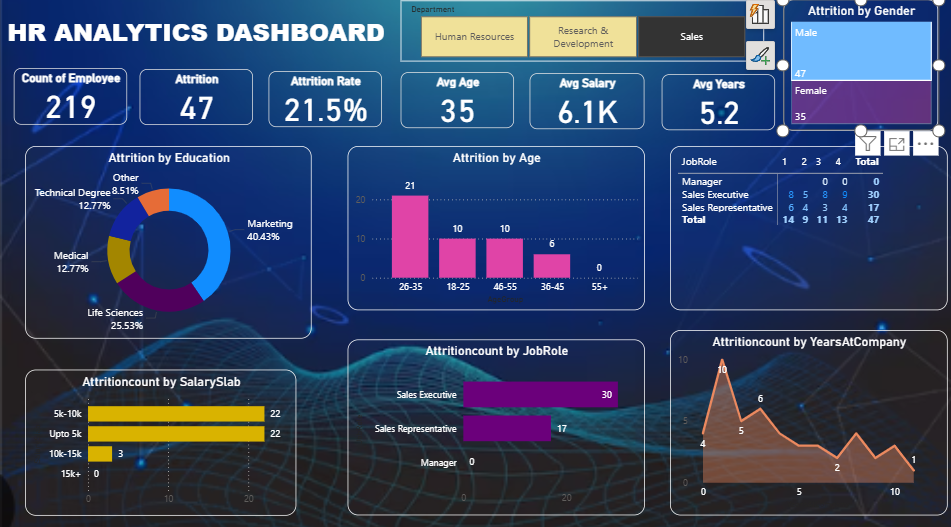

What the dashboard file says about the page in this screenshot:
{"tool":"powerbi","page":{"name":"Page 1","canvas":[1280,720],"ordinal":0},"visuals":[{"type":"card","title":"Count of Employee","fields":{"Values":["CountNonNull(HR_Analytics - HR_Analytics.EmpID)"]},"box":[26.7,103.3,150,75],"z":0},{"type":"card","title":"Attrition ","fields":{"Values":["Sum(HR_Analytics - HR_Analytics.Attritioncount)"]},"box":[193.1,105.2,150,74.1],"z":1000},{"type":"card","title":"Attrition Rate","fields":{"Values":["HR_Analytics - HR_Analytics.AttritionRate"]},"box":[363.8,106.9,150,74.1],"z":2000},{"type":"card","title":"Avg Age","fields":{"Values":["Avg(HR_Analytics - HR_Analytics.Age)"]},"box":[537.9,108.6,150,74.1],"z":3000},{"type":"card","title":"Avg Salary","fields":{"Values":["Avg(HR_Analytics - HR_Analytics.MonthlyIncome)"]},"box":[708.6,110.3,151.7,74.1],"z":4000},{"type":"card","title":"Avg Years","fields":{"Values":["Avg(HR_Analytics - HR_Analytics.YearsAtCompany)"]},"box":[882.8,112.1,150,74.1],"z":5000},{"type":"donutChart","title":"Attrition by Education ","fields":{"Category":["HR_Analytics - HR_Analytics.EducationField"],"Y":["Sum(HR_Analytics - HR_Analytics.Attritioncount)"]},"box":[41.4,206.9,379.3,255.2],"z":6000},{"type":"columnChart","title":"Attrition by Age","fields":{"Category":["HR_Analytics - HR_Analytics.AgeGroup"],"Y":["Sum(HR_Analytics - HR_Analytics.Attritioncount)"]},"box":[467.2,206.9,393.1,217.2],"z":7000},{"type":"pivotTable","fields":{"Rows":["HR_Analytics - HR_Analytics.JobRole"],"Columns":["HR_Analytics - HR_Analytics.JobSatisfaction"],"Values":["Sum(HR_Analytics - HR_Analytics.Attritioncount)"]},"box":[894.8,206.9,367.2,217.2],"z":8000},{"type":"barChart","title":"Attritioncount by SalarySlab","fields":{"Category":["HR_Analytics - HR_Analytics.SalarySlab"],"Y":["Sum(HR_Analytics - HR_Analytics.Attritioncount)"]},"box":[41.4,501.7,358.6,193.1],"z":9000},{"type":"barChart","title":" Attritioncount by JobRole","fields":{"Category":["HR_Analytics - HR_Analytics.JobRole"],"Y":["Sum(HR_Analytics - HR_Analytics.Attritioncount)"]},"box":[467.2,462.1,393.1,232.8],"z":10000},{"type":"areaChart","title":" Attritioncount by YearsAtCompany","fields":{"Category":["HR_Analytics - HR_Analytics.YearsAtCompany"],"Y":["Sum(HR_Analytics - HR_Analytics.Attritioncount)"]},"box":[894.8,450,367.2,244.8],"z":11000},{"type":"treemap","title":"Attrition by Gender","fields":{"Group":["HR_Analytics - HR_Analytics.Gender"],"Values":["Sum(HR_Analytics - HR_Analytics.Attritioncount)"]},"box":[1044.8,12.1,205.2,174.1],"z":12000},{"type":"slicer","fields":{"Values":["HR_Analytics - HR_Analytics.Department"]},"box":[537.9,13.8,481,81],"z":13000},{"type":"textbox","box":[12.1,27.6,525.9,67.2],"z":14000}]}

Visuals, with their boxes in screenshot pixels (x1, y1, x2, y2), scaled from the page's 1280x720 canvas onto the 951x527 screenshot:
"Count of Employee" card: region(20, 76, 131, 131)
"Attrition " card: region(143, 77, 255, 131)
"Attrition Rate" card: region(270, 78, 382, 132)
"Avg Age" card: region(400, 79, 511, 134)
"Avg Salary" card: region(526, 81, 639, 135)
"Avg Years" card: region(656, 82, 767, 136)
"Attrition by Education " donutChart: region(31, 151, 313, 338)
"Attrition by Age" columnChart: region(347, 151, 639, 310)
pivotTable - HR_Analytics - HR_Analytics.JobRole x HR_Analytics - HR_Analytics.JobSatisfaction: region(665, 151, 938, 310)
"Attritioncount by SalarySlab" barChart: region(31, 367, 297, 509)
" Attritioncount by JobRole" barChart: region(347, 338, 639, 509)
" Attritioncount by YearsAtCompany" areaChart: region(665, 329, 938, 509)
"Attrition by Gender" treemap: region(776, 9, 929, 136)
slicer - HR_Analytics - HR_Analytics.Department: region(400, 10, 757, 69)
textbox: region(9, 20, 400, 69)
